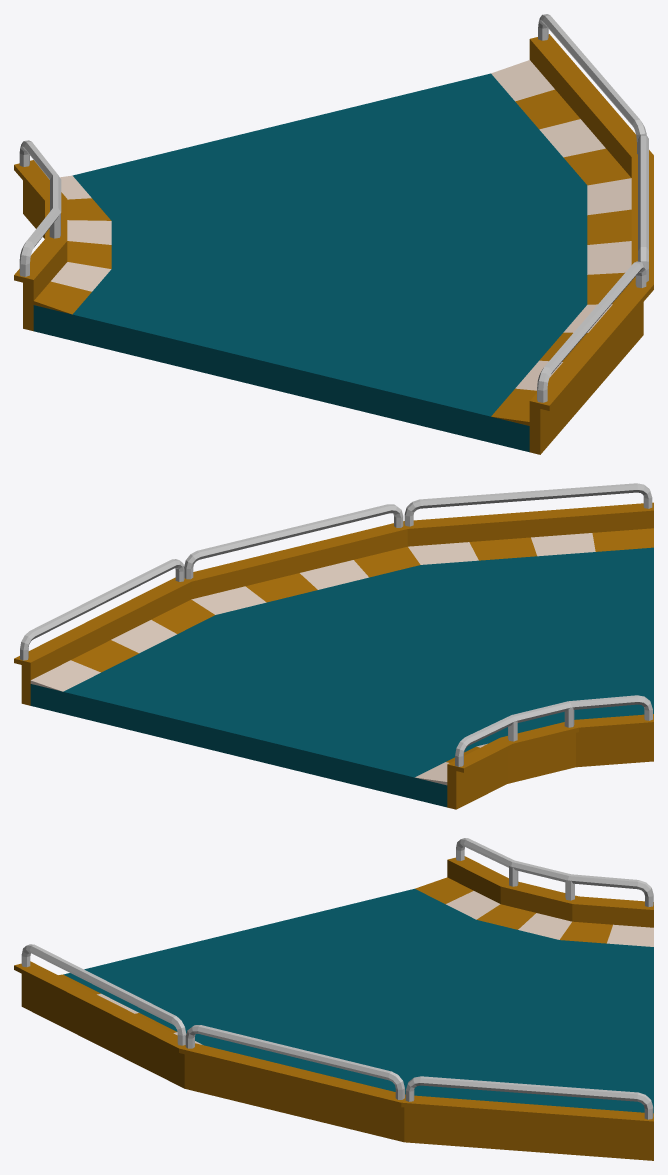
File: curveRight-60_s.FBX
3 renders of one model, top to bottom at view 1: azimuth 30°, elevation 25°; view 2: azimuth 150°, elevation 25°; view 3: azimuth 270°, elevation 25°, orthographic. The views are drawn at different scales.
Parts seen in each view (by area): view 1: curveRight-60_s, wall_l, curbs_l, wall_r, curbs_r; view 2: curveRight-60_s, wall_l, curbs_l, wall_r, curbs_r; view 3: curveRight-60_s, wall_l, wall_r, curbs_r, curbs_l.
Boxes of the visible parts, <box> form: curveRight-60_s: <box>33,73,587,452</box>; wall_l: <box>529,14,653,454</box>; curbs_l: <box>491,60,631,425</box>; wall_r: <box>14,140,67,331</box>; curbs_r: <box>33,175,111,314</box>; curveRight-60_s: <box>30,547,653,807</box>; wall_l: <box>14,483,653,705</box>; curbs_l: <box>30,528,653,691</box>; wall_r: <box>447,695,653,809</box>; curbs_r: <box>415,743,487,785</box>; curveRight-60_s: <box>63,888,653,1113</box>; wall_l: <box>14,944,653,1160</box>; wall_r: <box>447,838,653,927</box>; curbs_r: <box>415,877,653,946</box>; curbs_l: <box>58,974,202,1044</box>.
Size of what is drawn, in the model's own units: 251 by 29.31 by 255.
